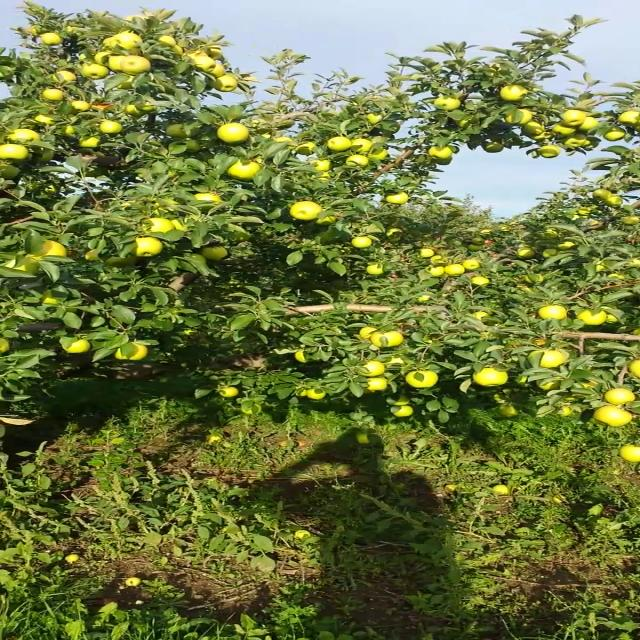apple: (594, 404, 631, 426), (126, 236, 162, 258), (218, 123, 249, 145), (4, 257, 38, 277), (224, 160, 261, 178), (31, 240, 64, 258), (498, 84, 530, 102), (289, 201, 321, 219), (110, 32, 140, 51), (120, 55, 150, 74), (471, 369, 506, 385), (115, 343, 146, 361), (371, 329, 401, 346), (603, 388, 633, 404), (5, 128, 39, 142), (79, 64, 108, 80), (576, 308, 605, 324), (406, 371, 436, 386), (200, 245, 228, 261), (209, 75, 235, 92), (0, 144, 27, 160), (500, 109, 530, 123), (540, 348, 562, 367), (147, 217, 173, 233), (538, 304, 564, 320), (102, 255, 139, 266), (434, 96, 461, 111), (191, 55, 216, 71), (559, 110, 583, 126), (92, 50, 114, 67), (348, 138, 371, 154), (327, 135, 349, 151), (619, 444, 638, 462), (615, 111, 639, 125), (106, 54, 124, 72), (0, 163, 21, 178), (36, 33, 62, 45), (274, 137, 298, 150), (100, 119, 122, 133), (522, 123, 544, 137), (67, 338, 89, 352), (429, 146, 452, 159), (364, 360, 382, 376), (385, 394, 409, 406), (604, 127, 626, 140), (40, 289, 59, 304), (116, 75, 136, 89), (540, 144, 560, 158), (155, 33, 174, 47), (167, 124, 186, 138), (541, 247, 560, 261), (52, 71, 76, 82), (384, 193, 408, 204), (366, 378, 388, 390), (239, 403, 261, 415), (346, 154, 366, 167), (389, 405, 412, 416), (530, 129, 551, 141), (296, 141, 314, 155), (367, 148, 388, 160), (36, 148, 54, 162), (84, 247, 102, 261), (218, 385, 239, 397), (34, 114, 59, 124), (382, 356, 407, 366), (552, 125, 574, 136), (564, 134, 584, 146), (193, 194, 223, 202), (444, 263, 464, 275), (580, 117, 599, 129), (359, 326, 378, 338), (133, 101, 155, 111), (78, 136, 100, 146), (498, 406, 520, 416), (426, 264, 444, 276), (540, 379, 558, 391), (481, 142, 502, 152), (350, 237, 371, 247), (553, 406, 574, 416), (590, 188, 609, 199), (292, 350, 308, 363), (42, 90, 62, 100), (619, 215, 639, 225), (524, 275, 544, 285), (470, 275, 490, 285), (306, 387, 322, 399), (354, 433, 370, 445), (603, 197, 622, 207), (517, 248, 536, 258), (429, 254, 448, 264), (580, 379, 599, 389), (366, 264, 383, 275), (208, 64, 222, 77), (313, 160, 331, 170), (576, 206, 594, 216), (385, 227, 403, 237), (556, 241, 574, 251), (470, 311, 487, 321), (629, 359, 639, 376), (205, 46, 219, 58), (317, 216, 335, 225), (70, 101, 86, 111), (124, 104, 140, 114), (366, 114, 382, 124), (452, 118, 468, 128), (459, 260, 479, 268), (0, 339, 9, 355), (419, 247, 433, 257), (603, 272, 625, 278), (100, 38, 113, 48), (63, 124, 76, 134), (604, 314, 617, 324), (595, 261, 606, 272), (0, 66, 12, 76), (624, 259, 639, 267), (516, 375, 528, 385), (418, 295, 431, 303), (293, 389, 307, 396), (448, 239, 460, 247), (466, 245, 482, 251), (172, 45, 183, 53), (471, 237, 483, 243), (630, 327, 639, 335)
